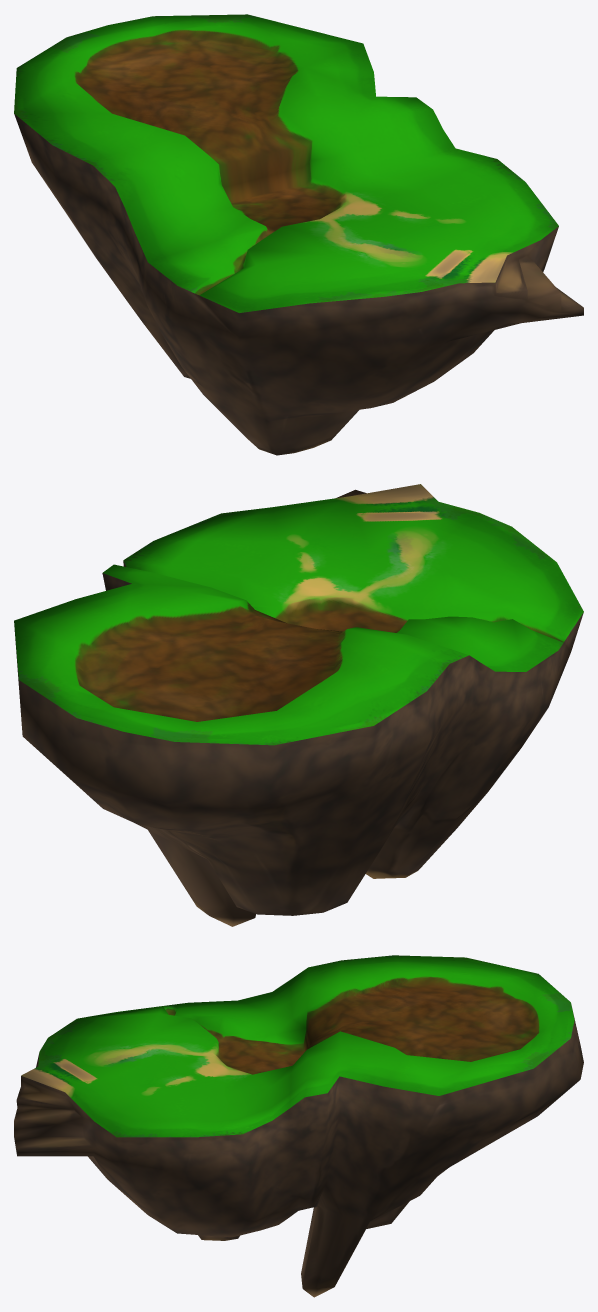
The model's file is island.FBX.
3 views of the same model, one above another, from view 1: azimuth 30°, elevation 25°; view 2: azimuth 150°, elevation 25°; view 3: azimuth 270°, elevation 25° (orthographic). The views are drawn at different scales.
Visible parts, largest first — view 1: floatingisland; view 2: floatingisland; view 3: floatingisland.
Part boxes in pixels (bbox=[...]): floatingisland: bbox=[14, 14, 583, 455]; floatingisland: bbox=[14, 484, 583, 926]; floatingisland: bbox=[14, 955, 583, 1297].
Size of the model in its own units: 247 by 401 by 201.
